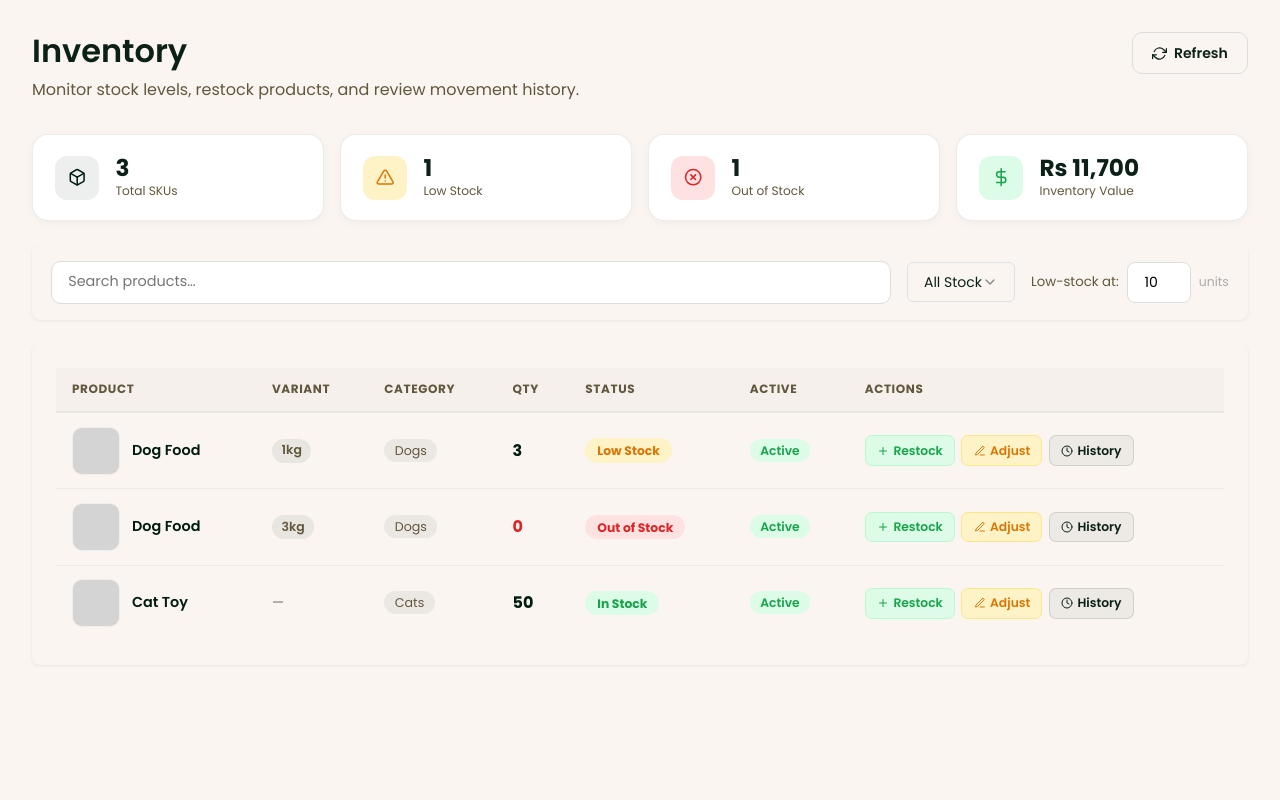
it: AdminInventory — variant awareness › history drawer shows variantLabel on each movement
Check: the text "1kg" is shown, box [272,439,311,463]
What coordinates should you click on to do the following:
click the button "History" in the row of "1kg"
I would click on:
 (1091, 451)
Its box is [1049,436,1134,466].
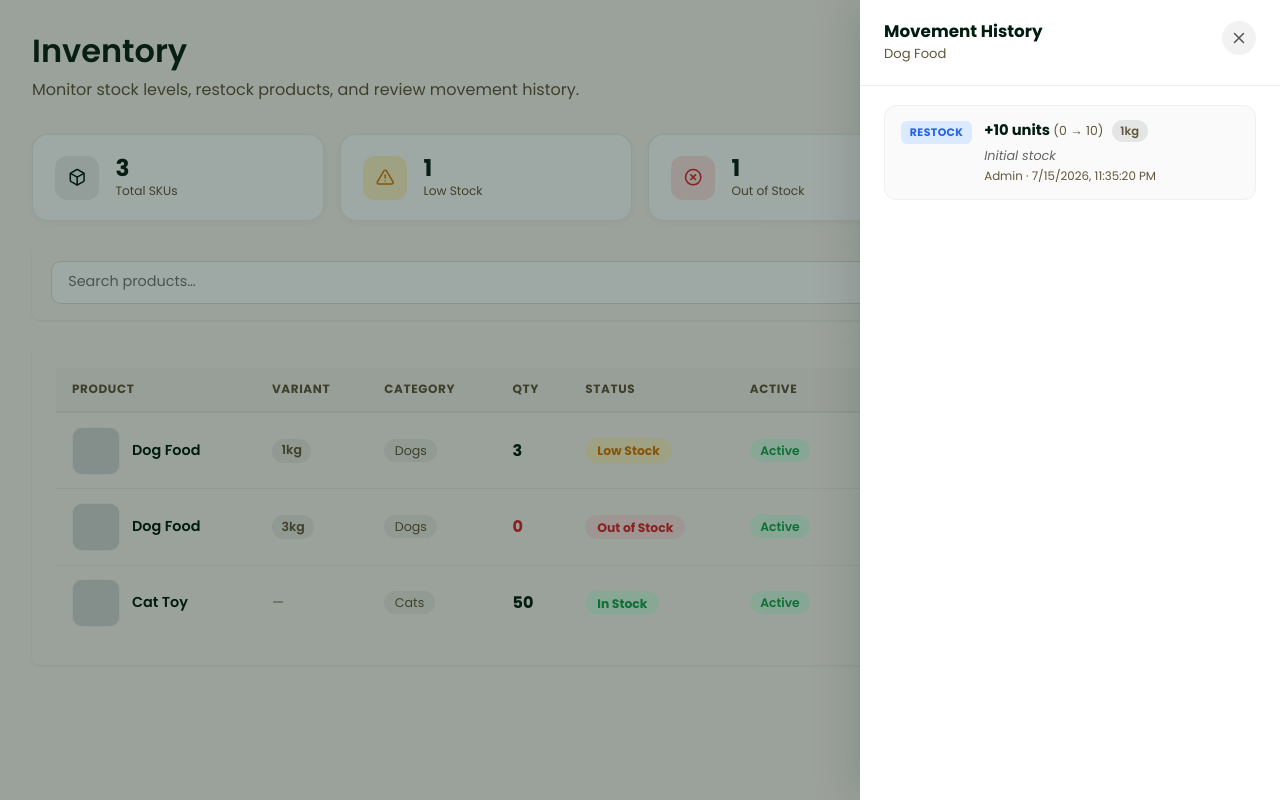
Check: the text "1kg" below "Variant" is shown, box [282,441,302,458]
Check: the text "Initial stock" is shown, box [984,146,1056,164]
